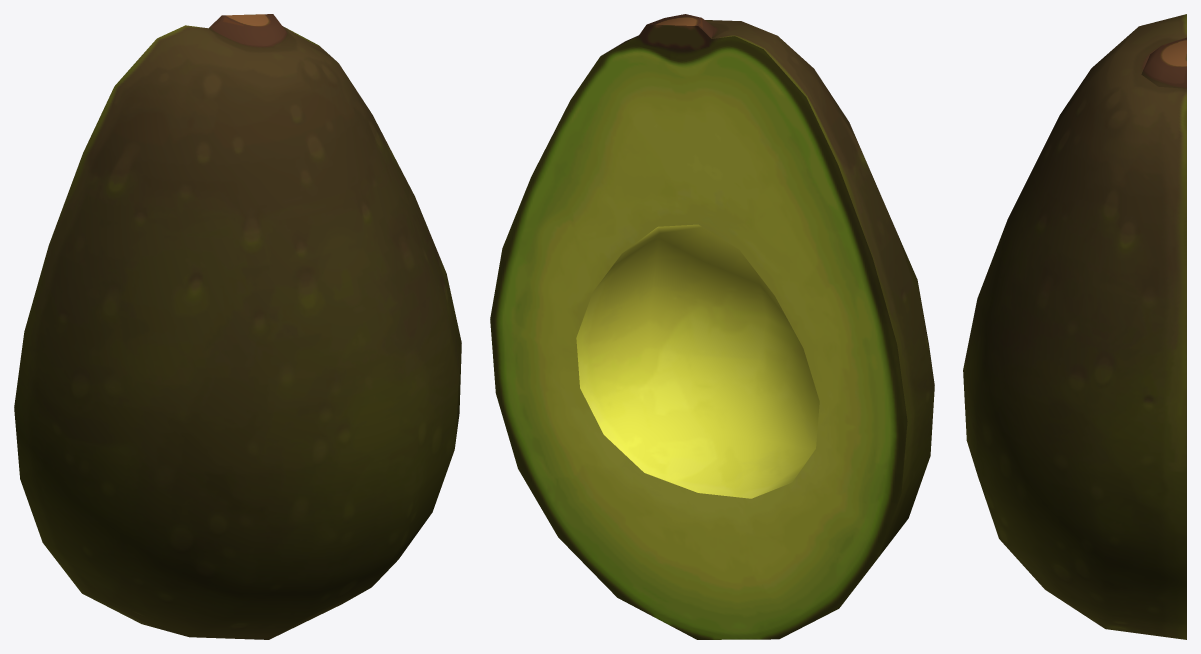
The model's file is SM_AvocadoCutA.fbx.
The picture shows the model from 3 angles, left to right: view 1: azimuth 30°, elevation 25°; view 2: azimuth 150°, elevation 25°; view 3: azimuth 270°, elevation 25°; orthographic projection. The views are drawn at different scales.
Visible parts, largest first — view 1: SM_AvocadoCutA; view 2: SM_AvocadoCutA; view 3: SM_AvocadoCutA.
Part boxes in pixels (<box>): SM_AvocadoCutA: <box>14,14,461,639</box>; SM_AvocadoCutA: <box>490,14,934,639</box>; SM_AvocadoCutA: <box>963,14,1186,639</box>.
Size of the model in its own units: 12.08 by 16.99 by 5.88.
